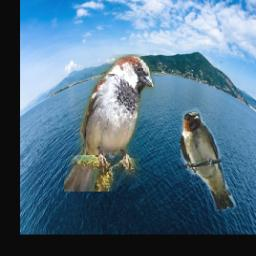Sparrow: (63, 55, 154, 192)
Swallow: (181, 108, 238, 212)
